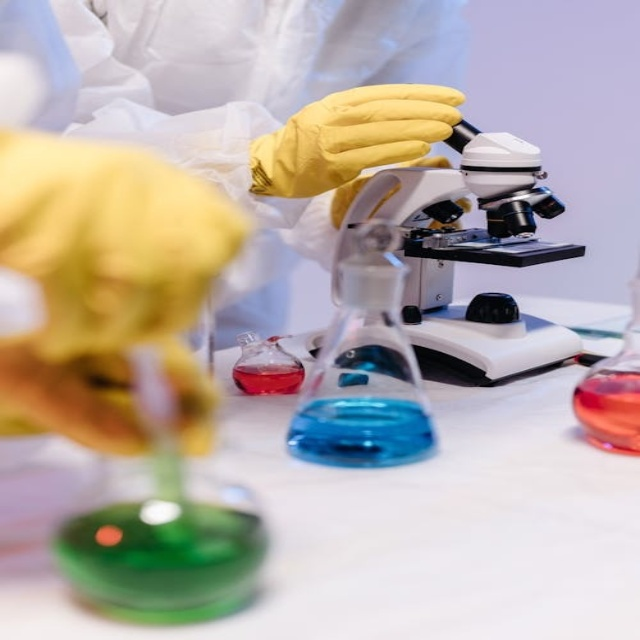Guantes: (5, 121, 238, 362), (256, 82, 471, 195)
